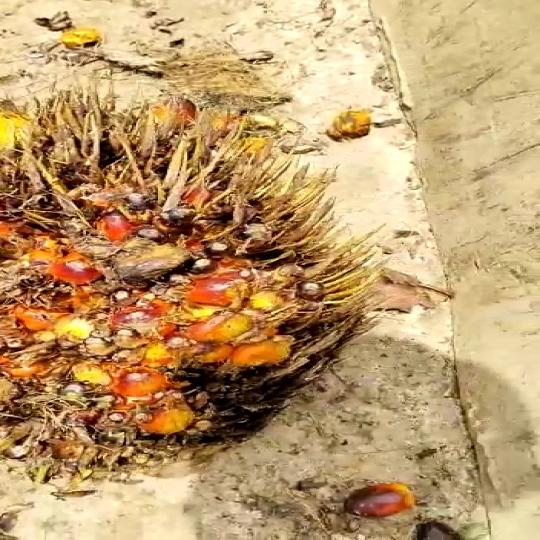terlalu masak: (0, 60, 419, 505)
